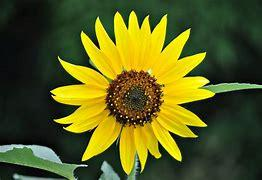sunflowers: (52, 7, 221, 172)
